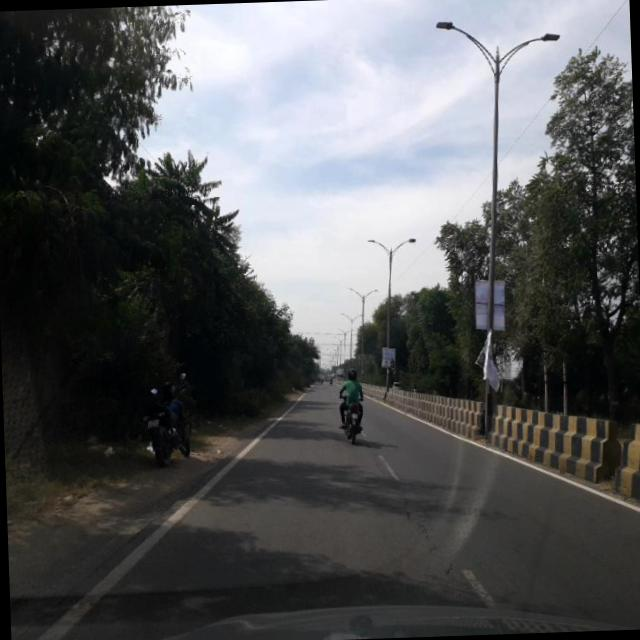pothole: (392, 485, 478, 608)
